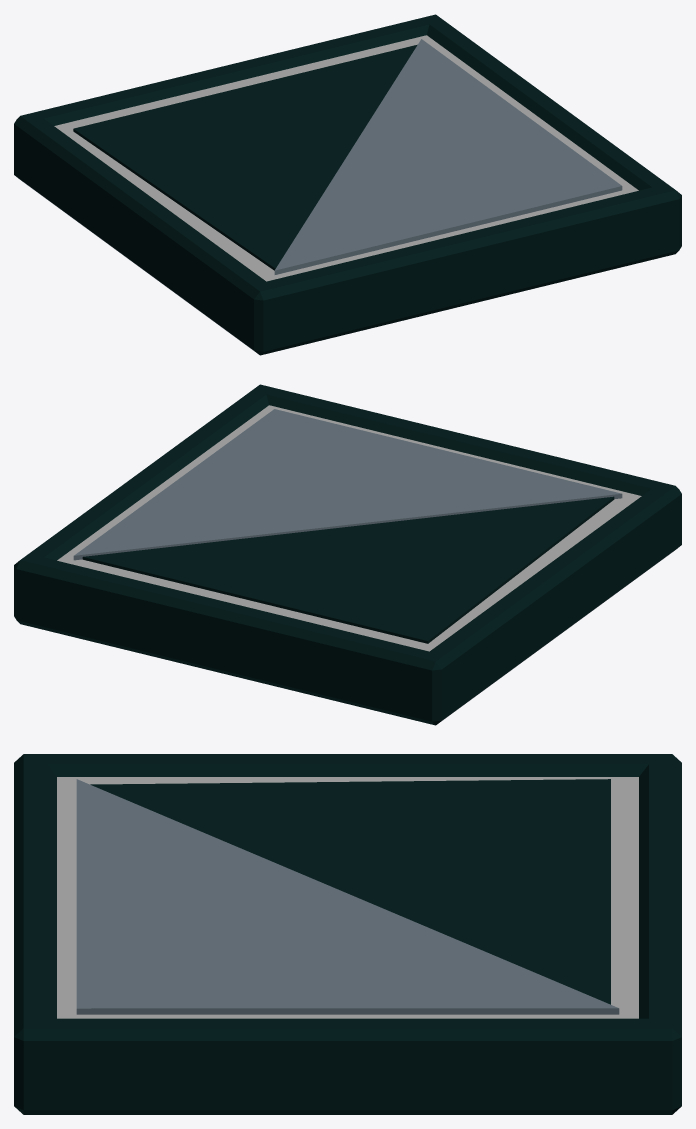
File: Platform_4.fbx
3 views of the same model, one above another, from view 1: azimuth 30°, elevation 25°; view 2: azimuth 150°, elevation 25°; view 3: azimuth 270°, elevation 25° (orthographic). The views are drawn at different scales.
Parts seen in each view (by area): view 1: Platform_4; view 2: Platform_4; view 3: Platform_4.
Boxes of the visible parts, bbox=[...] form: Platform_4: bbox=[14, 14, 681, 355]; Platform_4: bbox=[14, 384, 681, 725]; Platform_4: bbox=[14, 754, 681, 1114].
Size of the model in its own units: 9.98 by 1.43 by 9.98.
